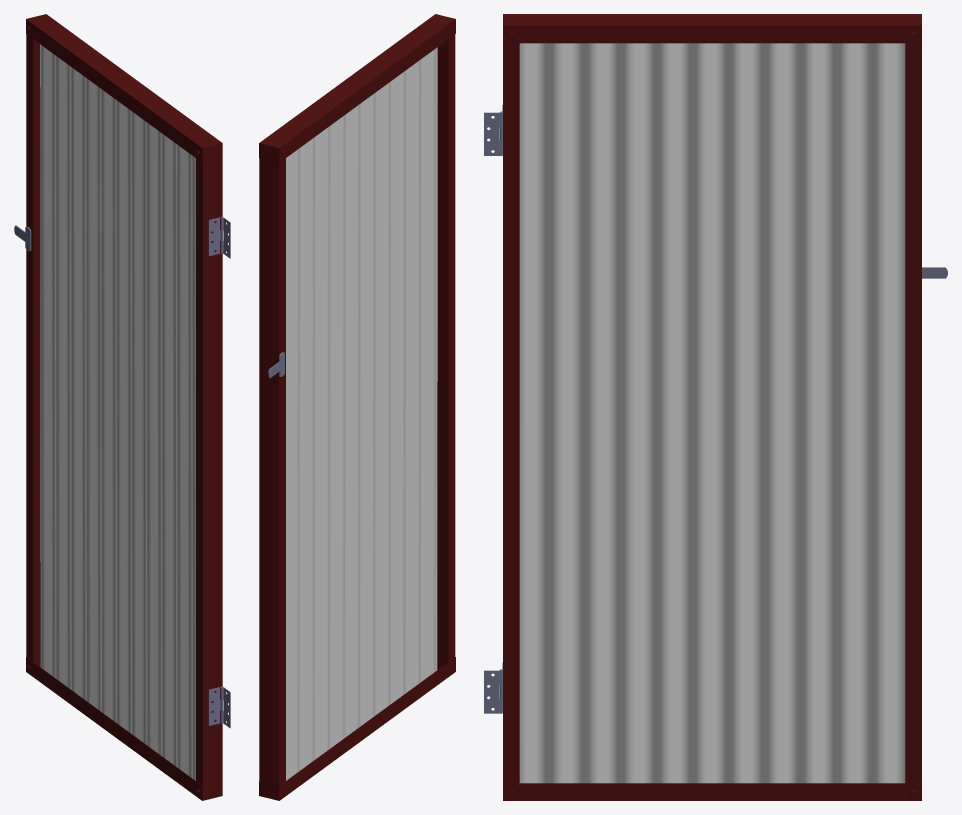
The model's file is GCSG18.glb.
3 renders of one model, left to right at view 1: azimuth 30°, elevation 25°; view 2: azimuth 150°, elevation 25°; view 3: azimuth 270°, elevation 25°, orthographic. The views are drawn at different scales.
Visible parts, largest first — view 1: GC - GOOD NEIGHBOUR CGI-16 SINGLE DRIVEWAY GATE - VERTICAL -; view 2: GC - GOOD NEIGHBOUR CGI-16 SINGLE DRIVEWAY GATE - VERTICAL -; view 3: GC - GOOD NEIGHBOUR CGI-16 SINGLE DRIVEWAY GATE - VERTICAL -.
Boxes of the visible parts, box(x1,y1,x2,y2) form: GC - GOOD NEIGHBOUR CGI-16 SINGLE DRIVEWAY GATE - VERTICAL -: box(14, 14, 230, 800); GC - GOOD NEIGHBOUR CGI-16 SINGLE DRIVEWAY GATE - VERTICAL -: box(259, 14, 455, 800); GC - GOOD NEIGHBOUR CGI-16 SINGLE DRIVEWAY GATE - VERTICAL -: box(484, 14, 947, 800).
Size of the model in its own units: 0.0696 by 1.81 by 0.9803.
